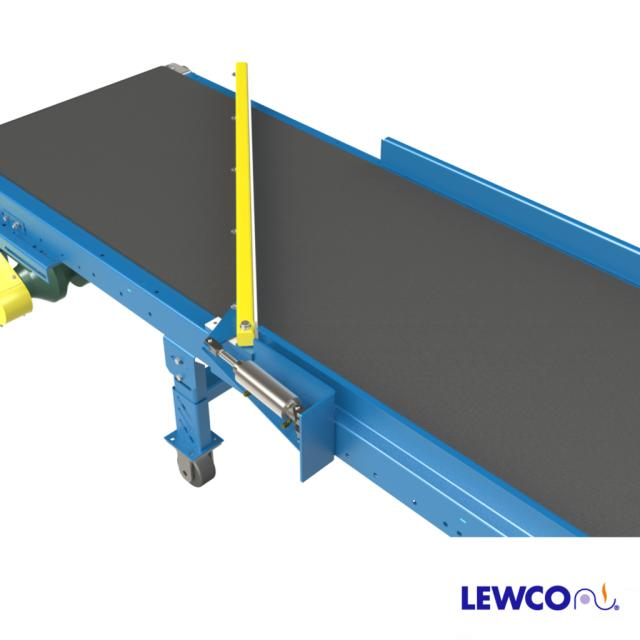conveyor: (6, 39, 640, 578)
